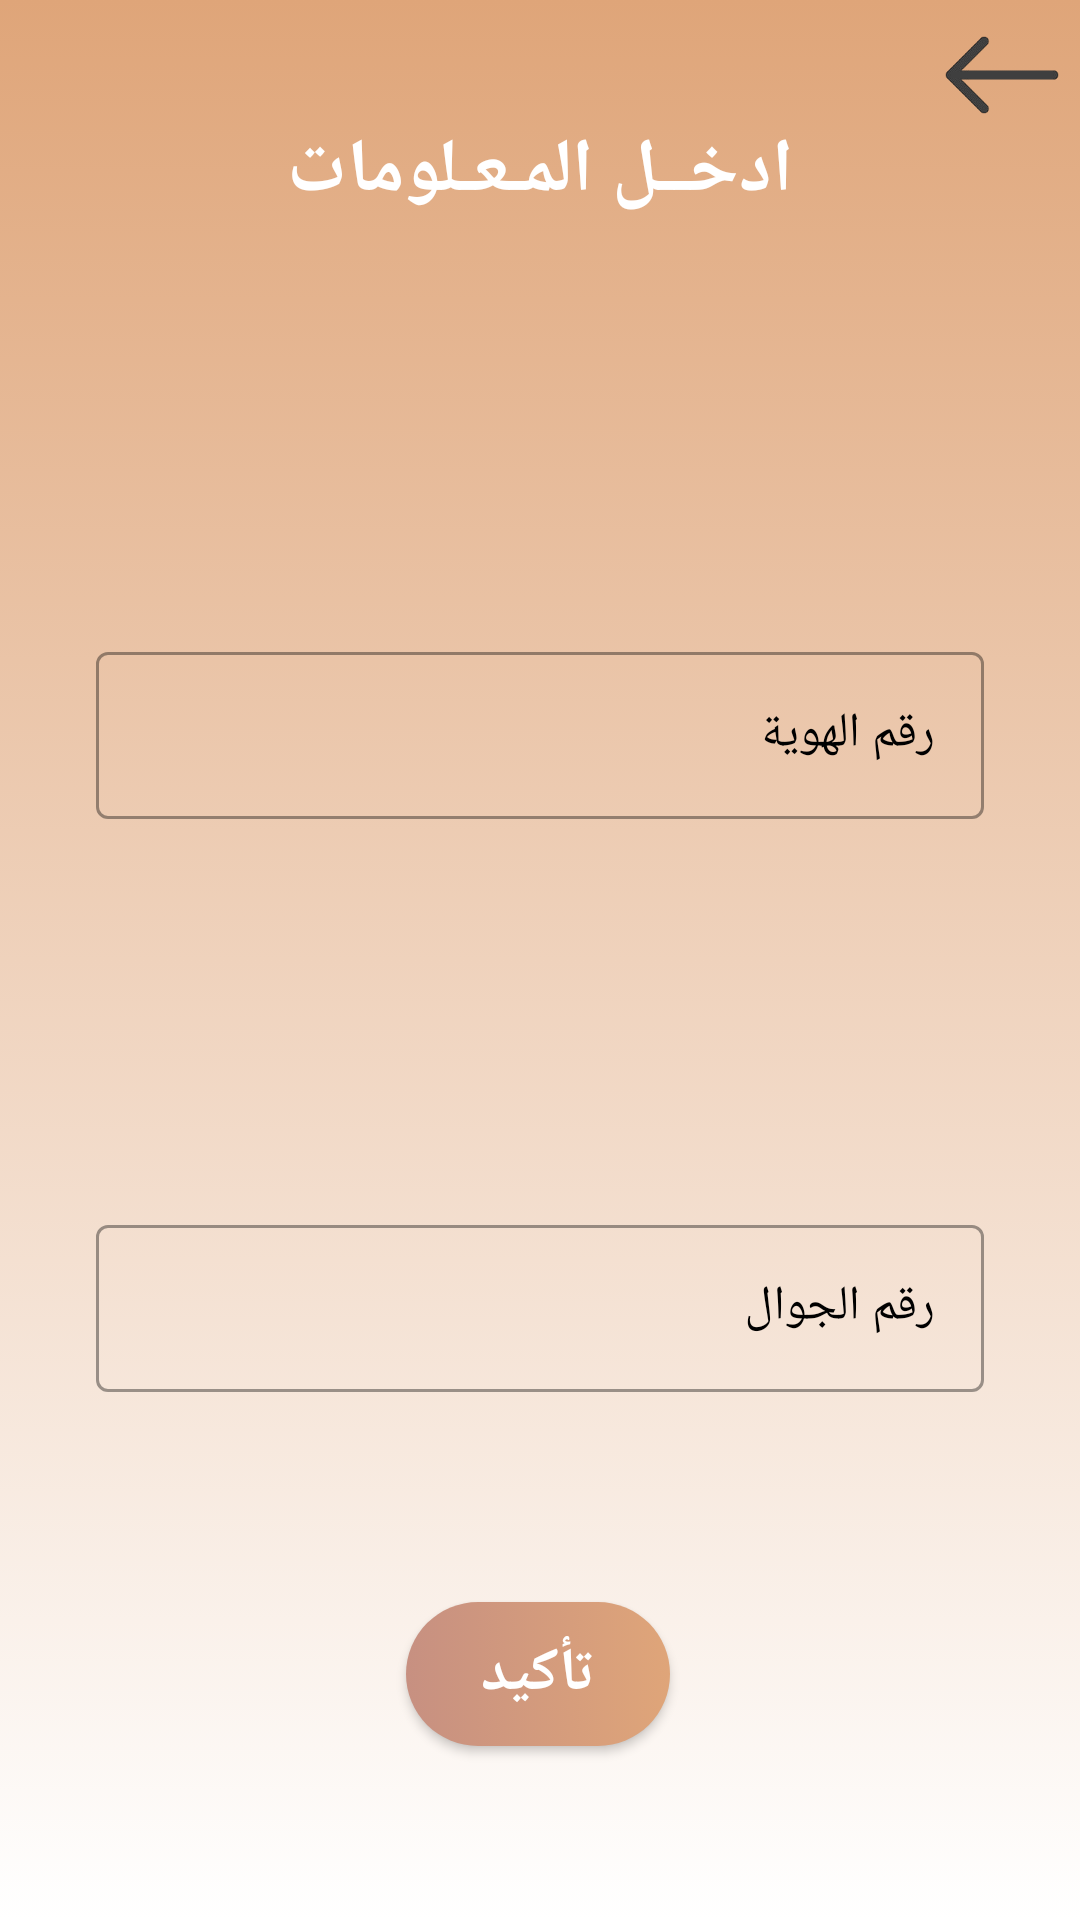

Locate icon controls on the screen. Image size 1080x1920, boxes as (x1, y1, x2, y2).
back: (945, 36, 1059, 114)
